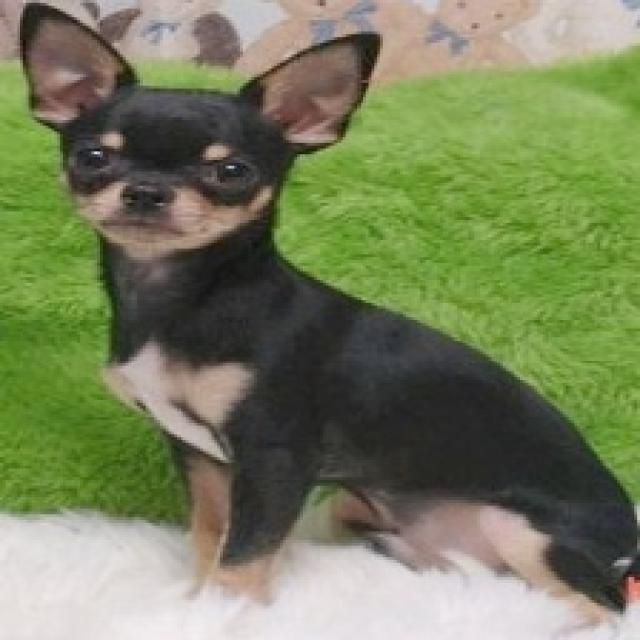cho khoe manh: (10, 0, 639, 640)
